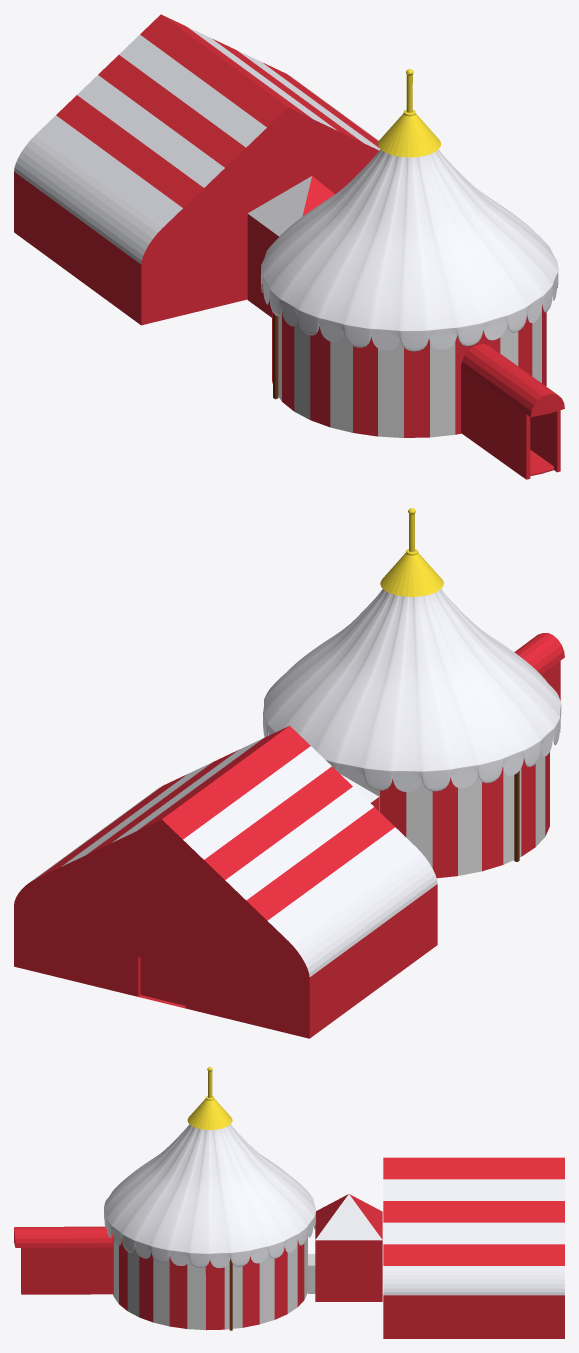
File: BigTop(Ver4.0 Sub 2 - Joinable).fbx
3 views of the same model, one above another, from view 1: azimuth 30°, elevation 25°; view 2: azimuth 150°, elevation 25°; view 3: azimuth 270°, elevation 25° (orthographic). The views are drawn at different scales.
Visible parts, largest first — view 1: Top; view 2: Top; view 3: Top.
Part boxes in pixels (<box>): Top: <box>14,14,564,479</box>; Top: <box>14,508,564,1038</box>; Top: <box>14,1067,564,1338</box>.
Size of the model in its own units: 493 by 497 by 1122.
